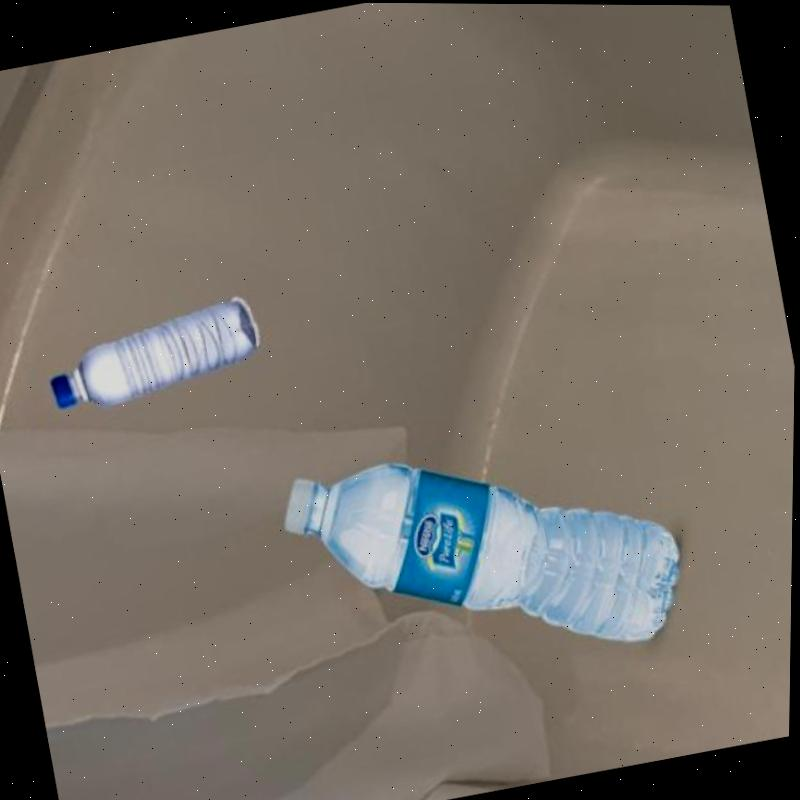botella: (271, 407, 697, 709), (39, 294, 268, 423)
